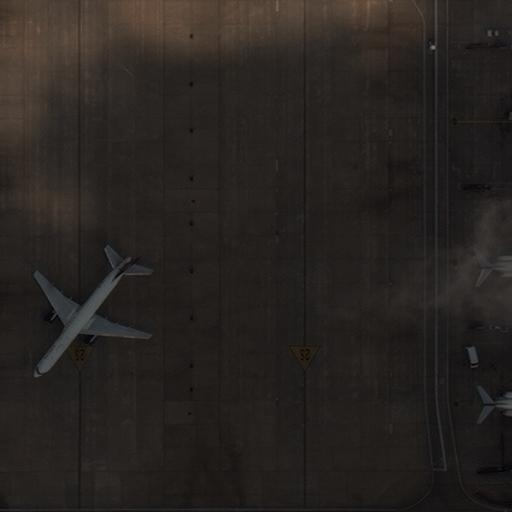Large Civil Transport: (32, 254, 147, 379)
